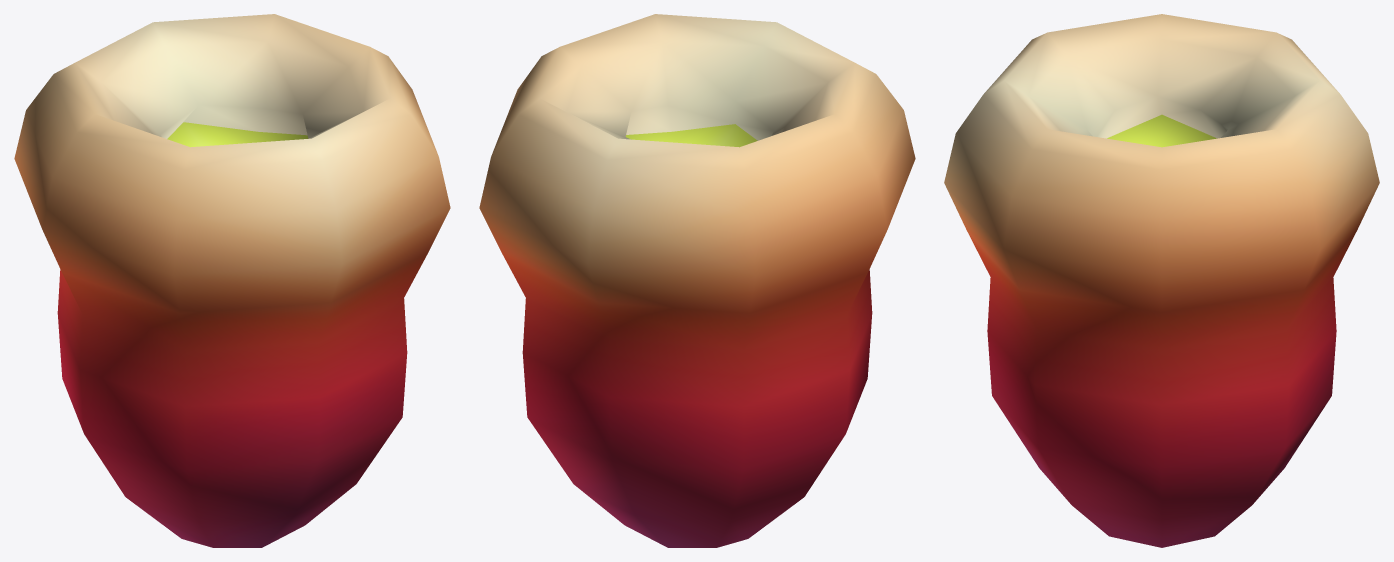
File: Tambis.fbx
3 views of the same model, side by side, from view 1: azimuth 30°, elevation 25°; view 2: azimuth 150°, elevation 25°; view 3: azimuth 270°, elevation 25° (orthographic).
Parts seen in each view (by area): view 1: Tambis; view 2: Tambis; view 3: Tambis.
Part boxes in pixels (x1,y1,x2,y2): Tambis: (14,14,450,547); Tambis: (479,14,915,547); Tambis: (944,14,1379,547).
Size of the model in its own units: 164 by 192 by 164.
